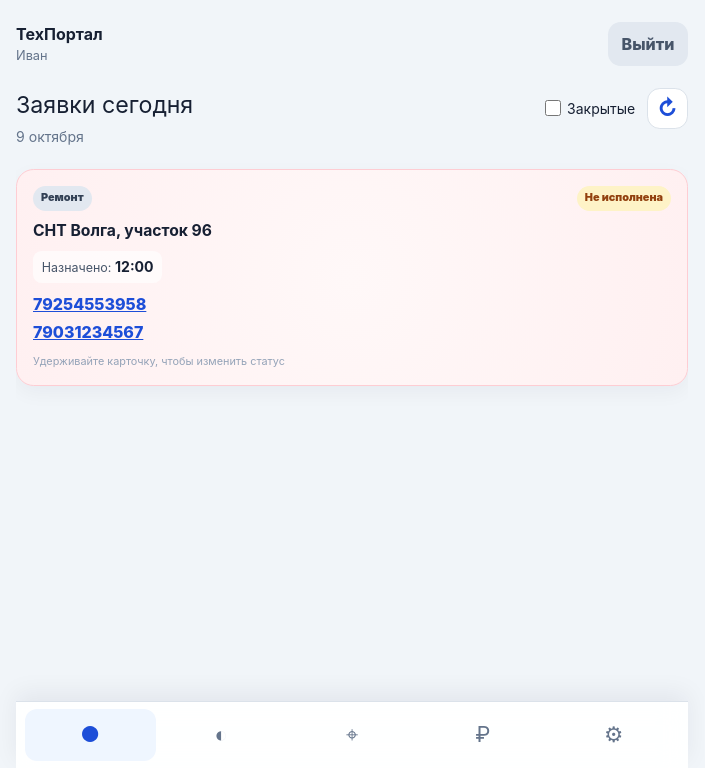
Test: Заявки › завершает ремонт тем же отчётом, требуя текст и предлагая GIS и фото
This screenshot has width=705, height=768.
Click the button "СНТ Волга": (62,198) [16, 169, 688, 386]
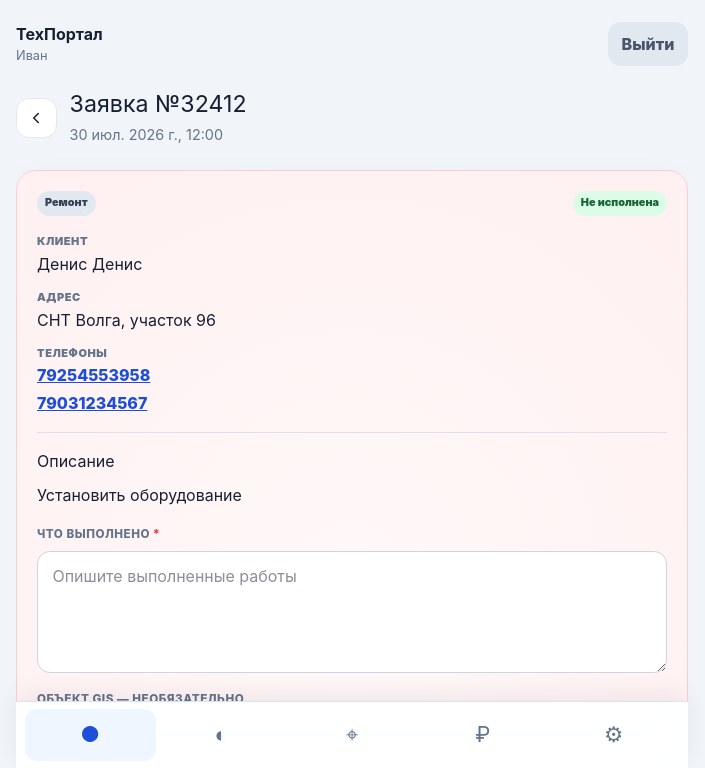
Expected: the text box labelled "Что выполнено" is shown
Expected: the text "Объект GIS — необязательно" is shown, [37, 692, 244, 701]
In the text box labelled "Что выполнено": (352,612) [37, 550, 667, 673], type "Заменили кабель"
(page scrolled)
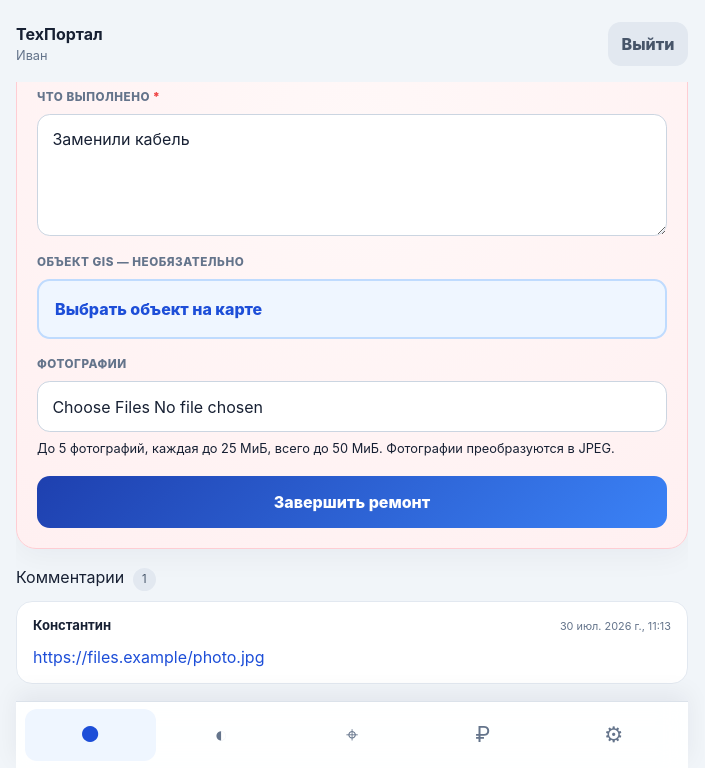
Click the button "Завершить ремонт": (352,502) [37, 476, 667, 528]
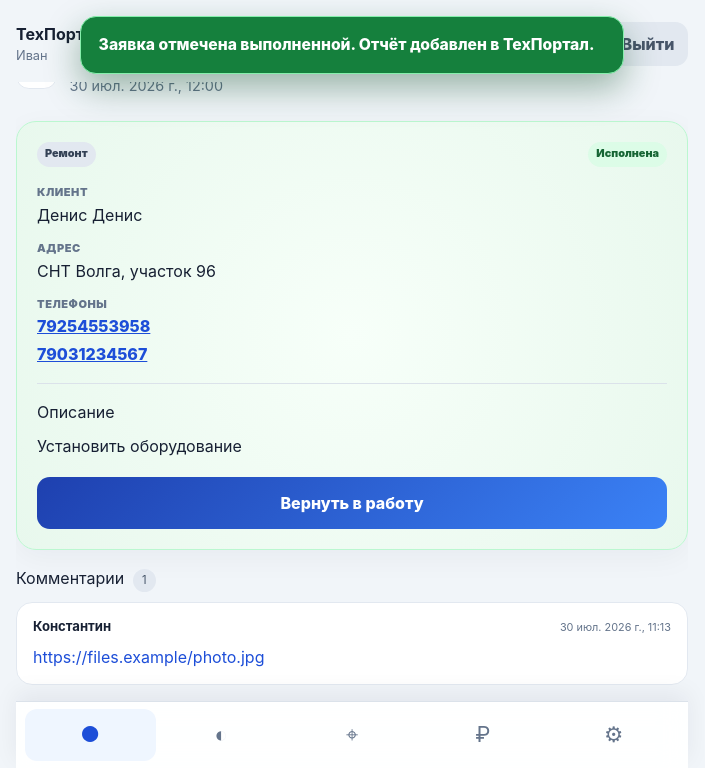
Expected: the text "Заявка отмечена выполненной. Отчёт добавлен в ТехПортал." is shown, [80, 16, 624, 74]
